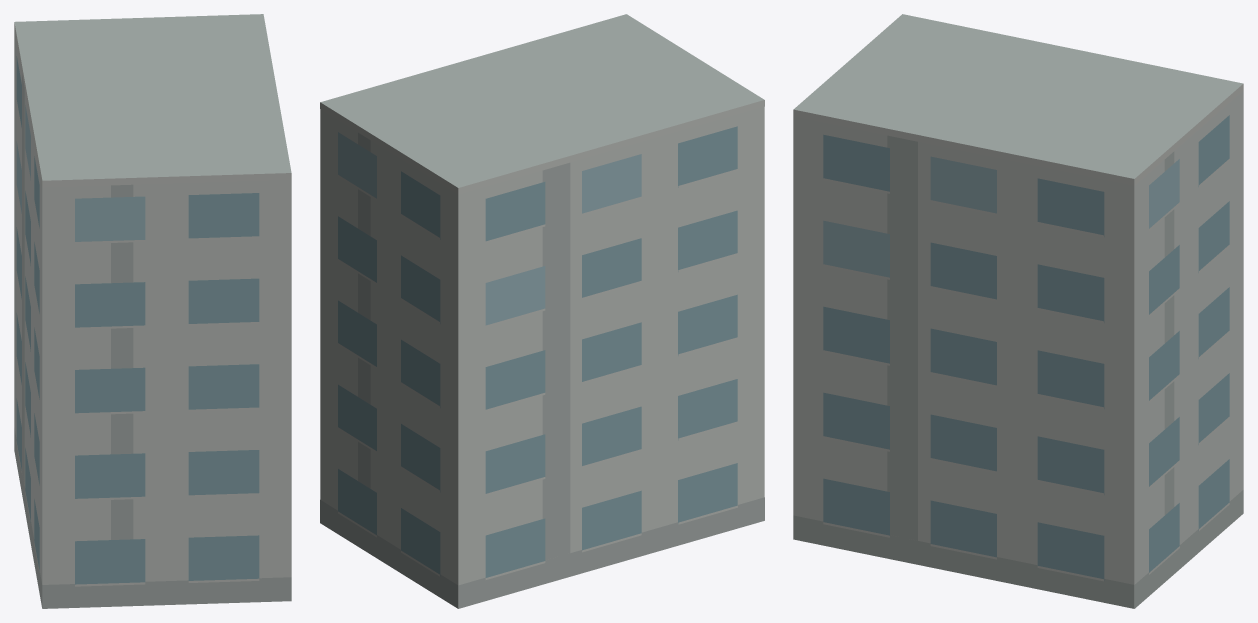
Rendered from residential-aef8e39e-fc82-4c84-9a6a-210a9d6d3f7d.glb.
The picture shows the model from 3 angles, left to right: view 1: azimuth 30°, elevation 25°; view 2: azimuth 150°, elevation 25°; view 3: azimuth 270°, elevation 25°; orthographic projection. The views are drawn at different scales.
Parts seen in each view (by area): view 1: residential-aef8e39e-fc82-4c84-9a6a-210a9d6d3f7d.tmp; view 2: residential-aef8e39e-fc82-4c84-9a6a-210a9d6d3f7d.tmp; view 3: residential-aef8e39e-fc82-4c84-9a6a-210a9d6d3f7d.tmp.
Boxes of the visible parts, bbox=[...] form: residential-aef8e39e-fc82-4c84-9a6a-210a9d6d3f7d.tmp: bbox=[14, 14, 291, 608]; residential-aef8e39e-fc82-4c84-9a6a-210a9d6d3f7d.tmp: bbox=[320, 14, 764, 608]; residential-aef8e39e-fc82-4c84-9a6a-210a9d6d3f7d.tmp: bbox=[793, 14, 1243, 608].
Bounding box in the file's own units: 12.56 × 15.25 × 14.48.
